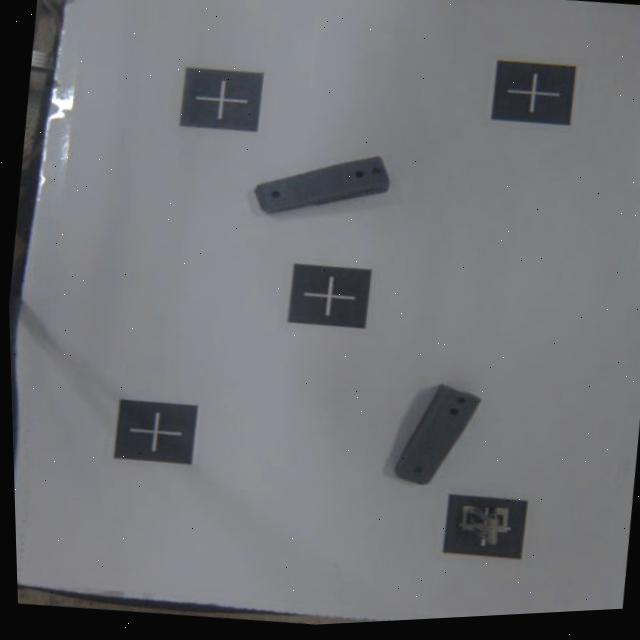pick5: (436, 487, 530, 568)
